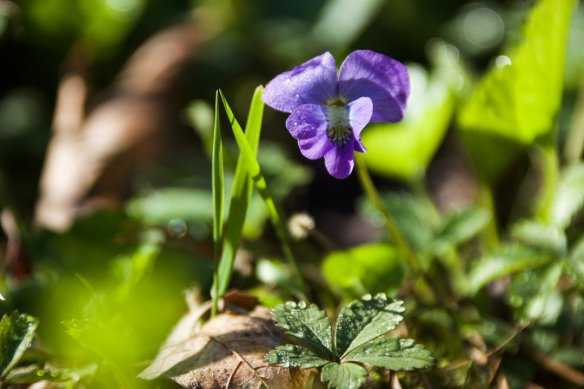violet: (261, 47, 421, 182)
